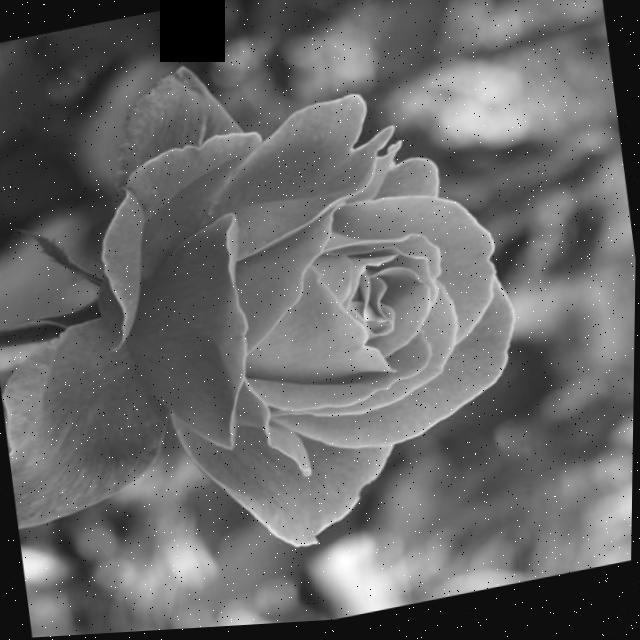rose: (0, 0, 560, 614)
